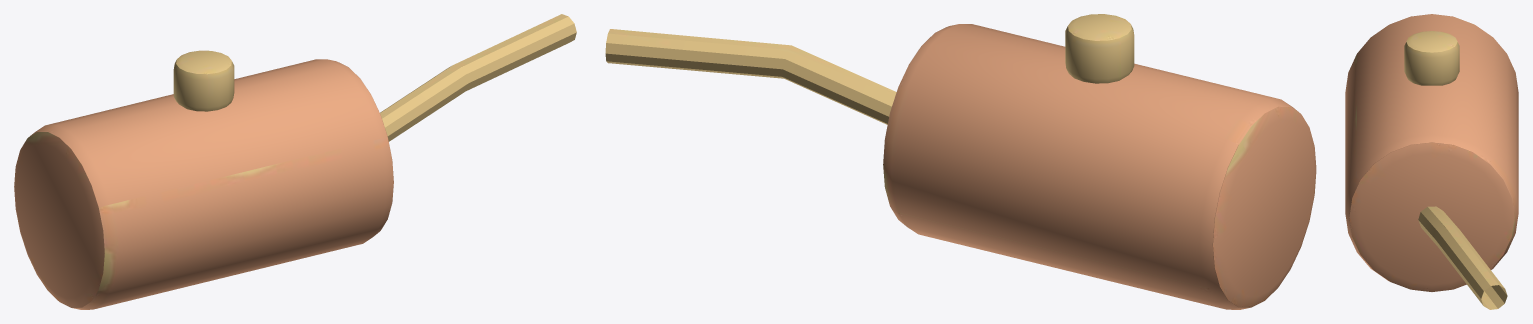
File: att_steamfeed.glb
The picture shows the model from 3 angles, left to right: view 1: azimuth 30°, elevation 25°; view 2: azimuth 150°, elevation 25°; view 3: azimuth 270°, elevation 25°; orthographic projection. The views are drawn at different scales.
Visible parts, largest first — view 1: boiler, pipe, valve; view 2: boiler, pipe, valve; view 3: boiler, pipe, valve.
Boxes of the visible parts, left/top/right/bottom form: boiler: left=14, top=59, right=393, bottom=309; pipe: left=380, top=14, right=576, bottom=141; valve: left=173, top=50, right=234, bottom=111; boiler: left=883, top=24, right=1316, bottom=309; pipe: left=605, top=29, right=896, bottom=124; valve: left=1065, top=14, right=1134, bottom=83; boiler: left=1345, top=14, right=1518, bottom=291; pipe: left=1418, top=206, right=1507, bottom=309; valve: left=1404, top=31, right=1459, bottom=85.
Bounding box in the file's own units: 0.1662 × 0.061 × 0.05.
Materials: 1 (1 with a texture image).
